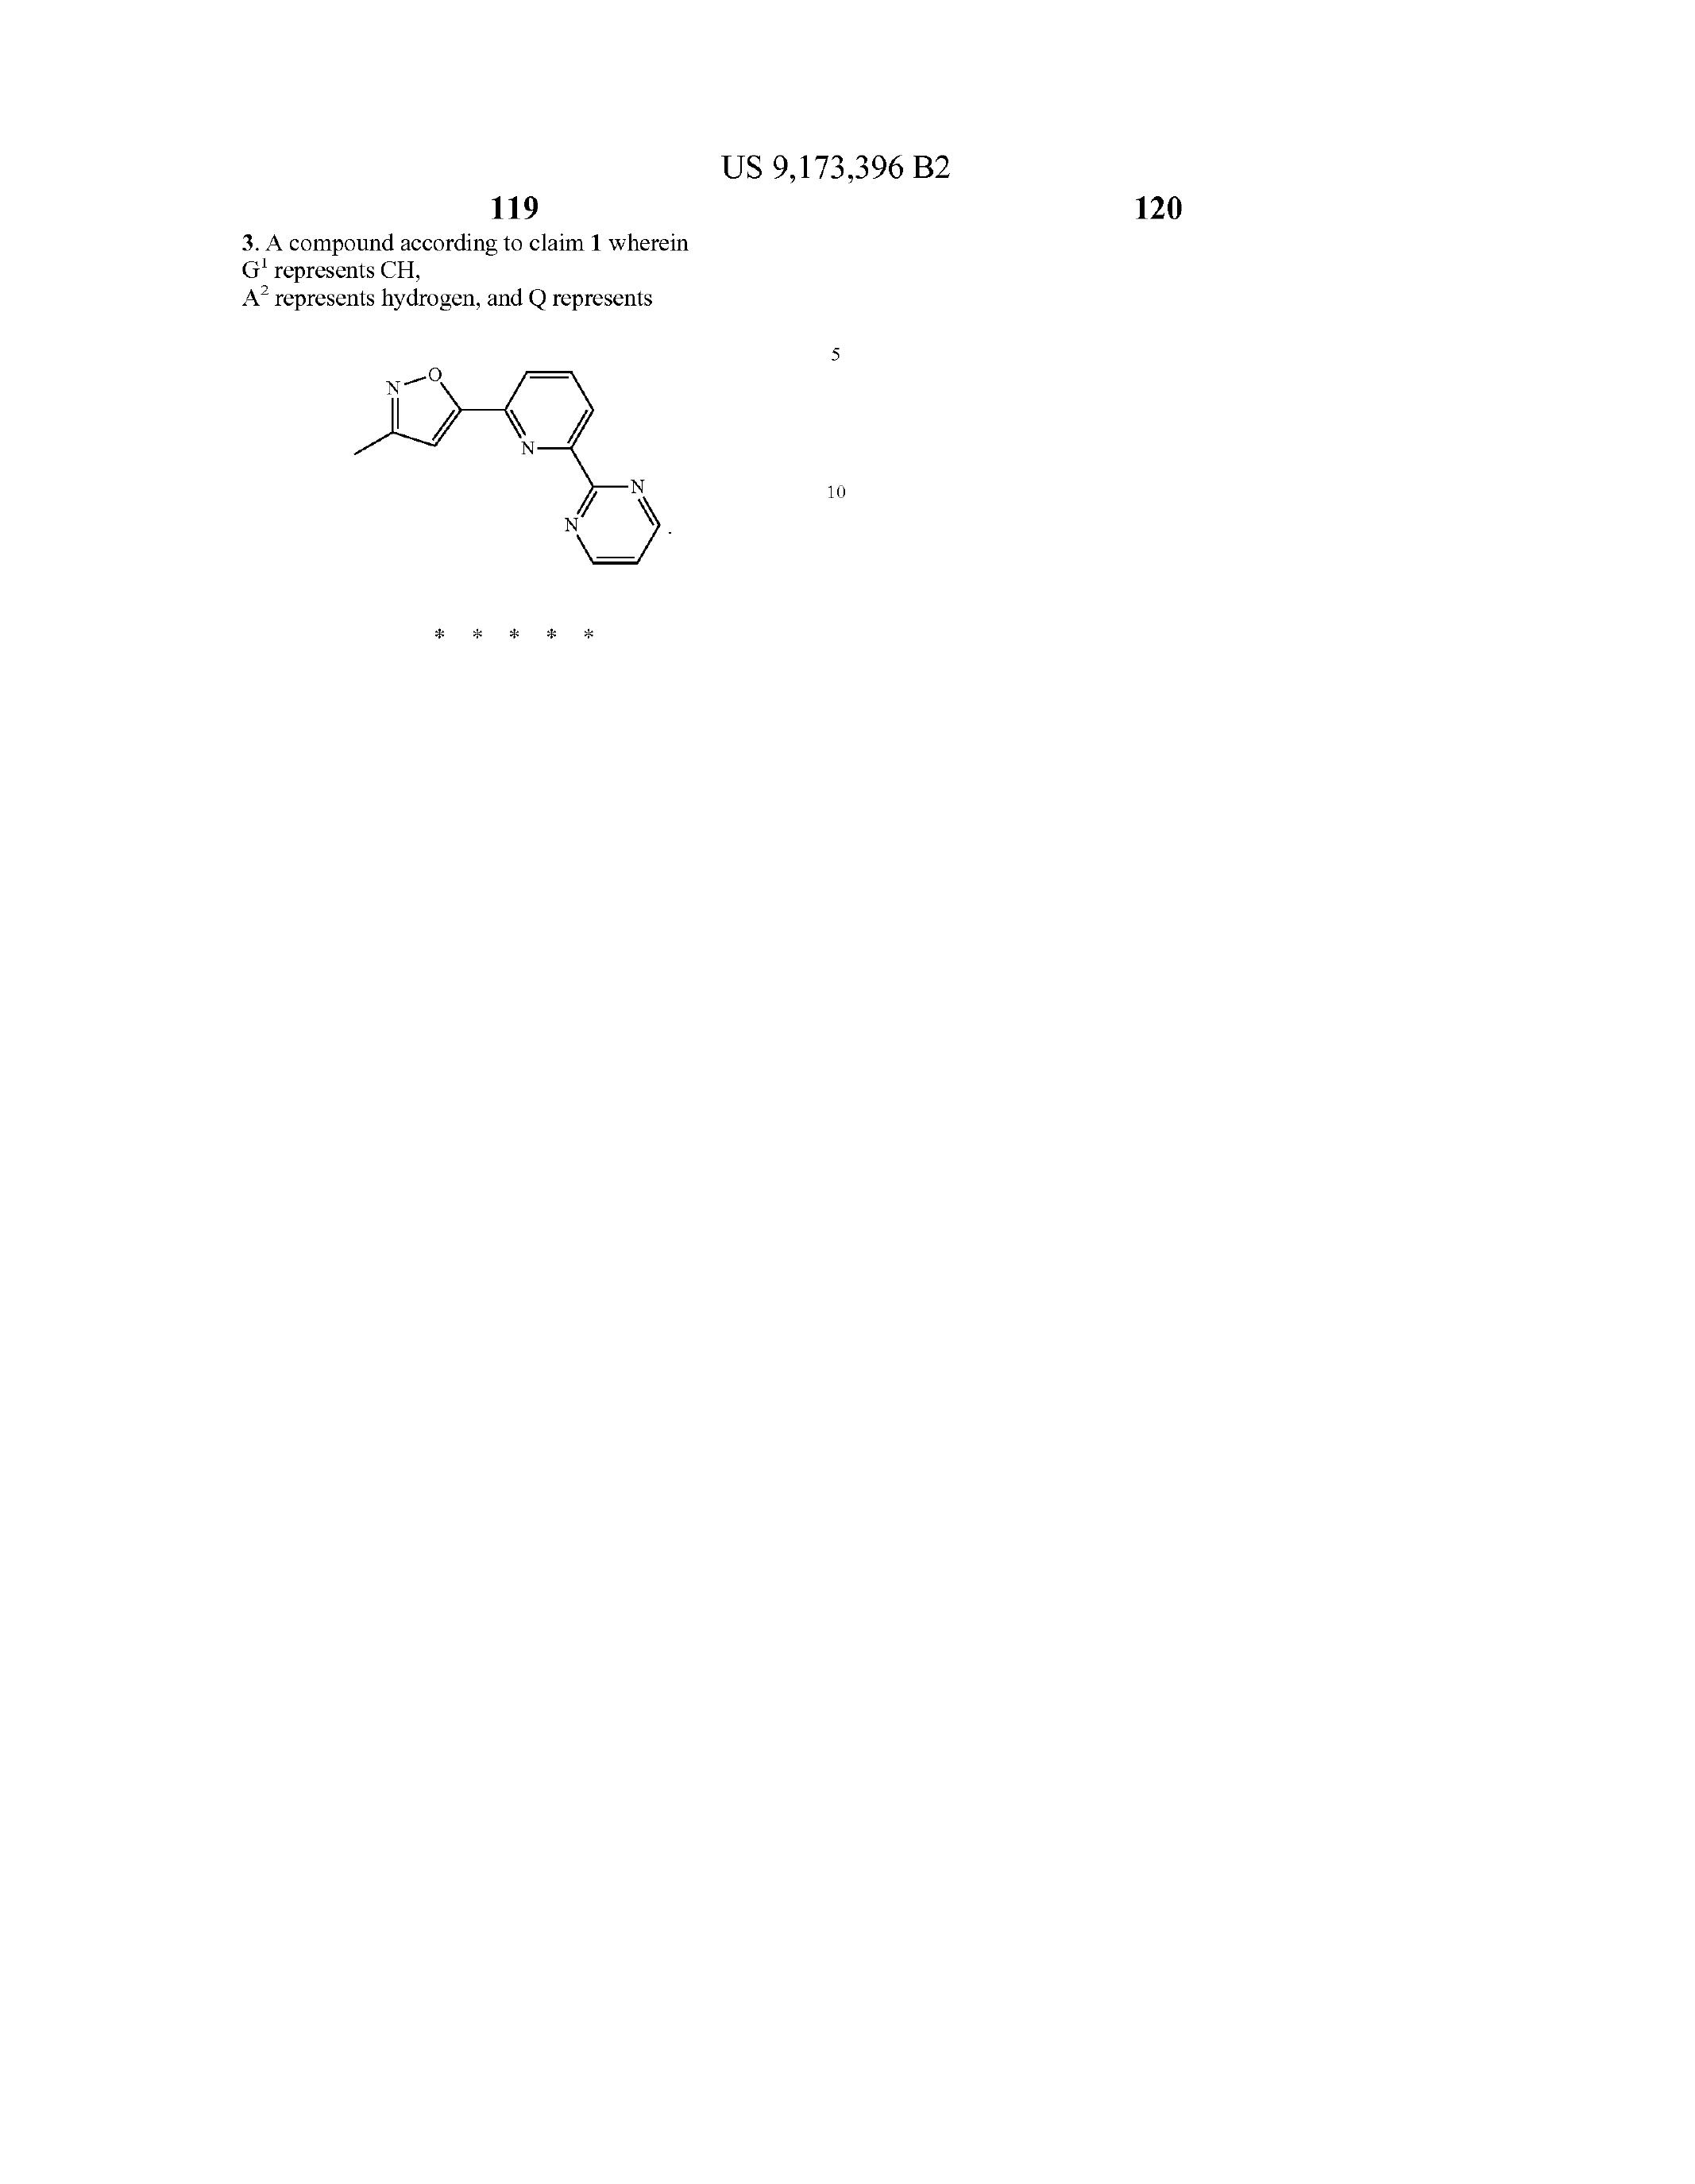markush-structures: (294, 333, 704, 583)
